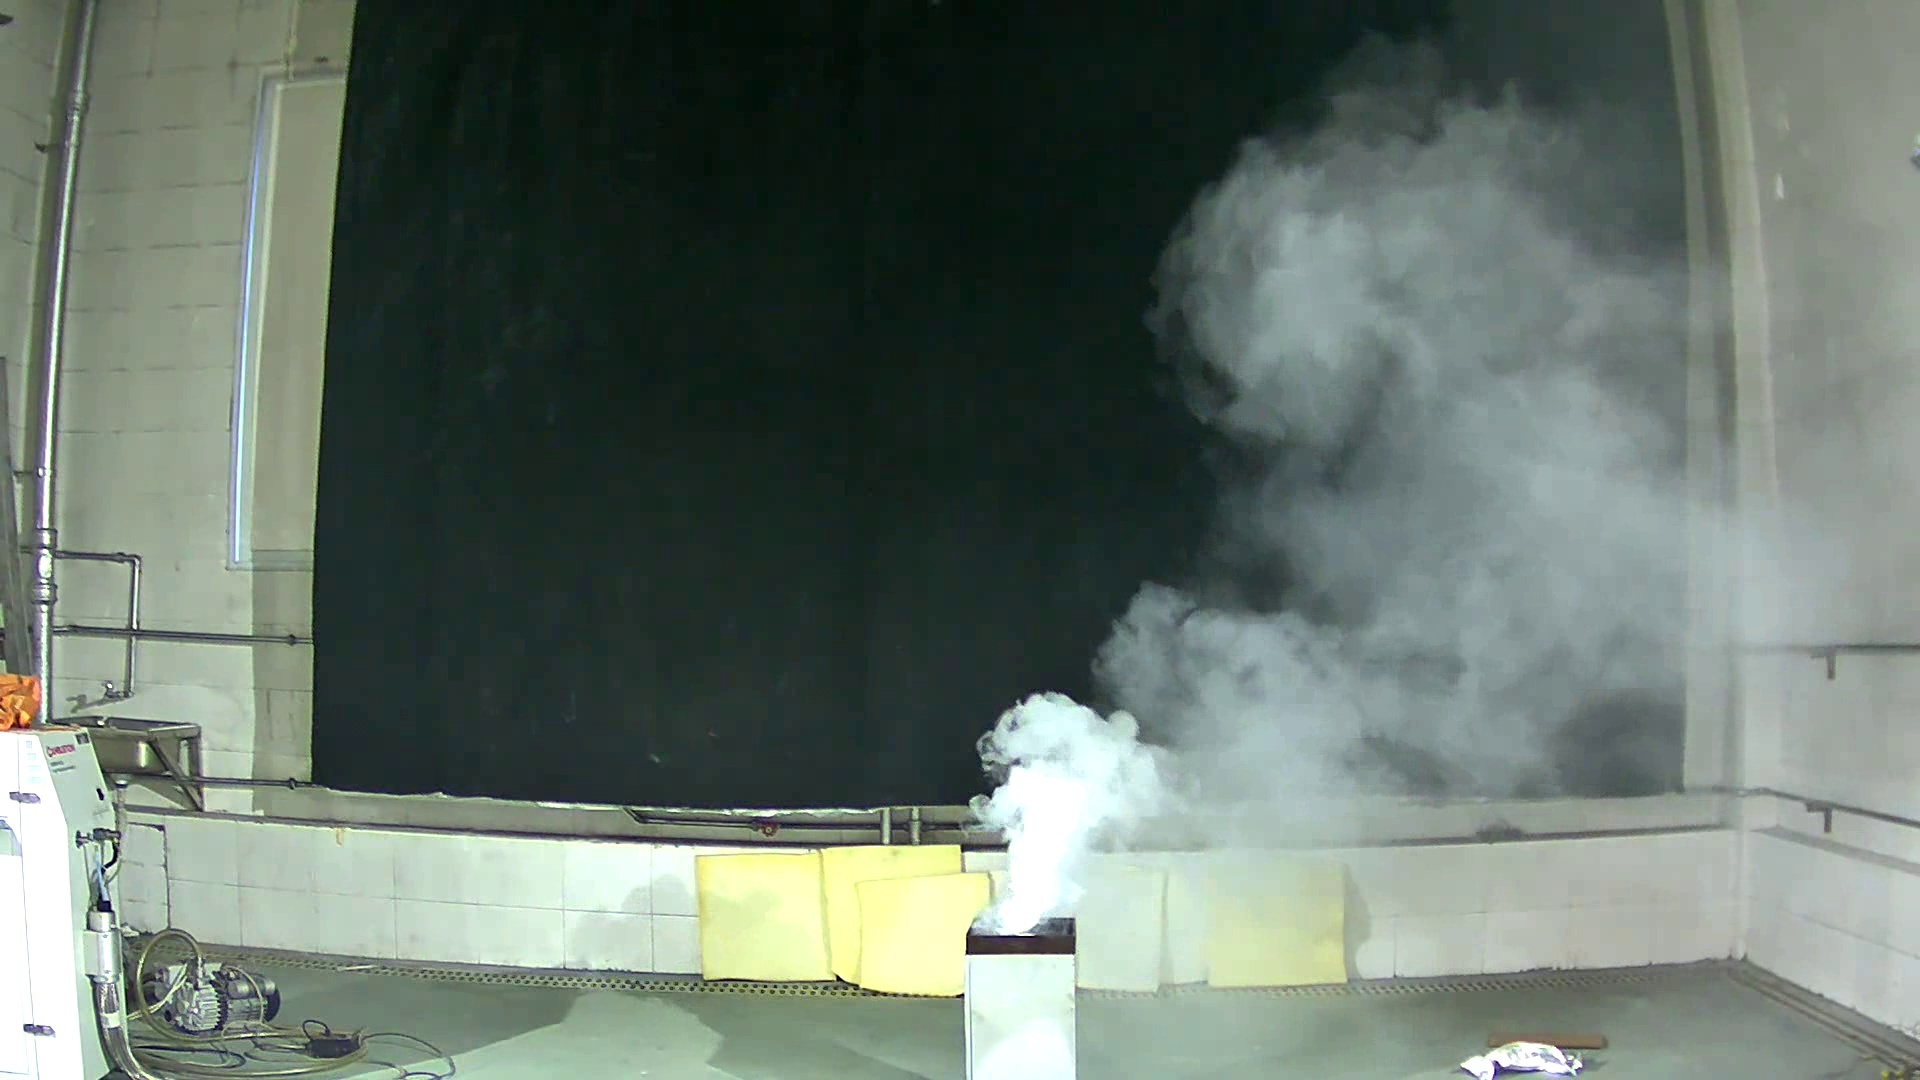smoke: (942, 78, 1729, 926)
